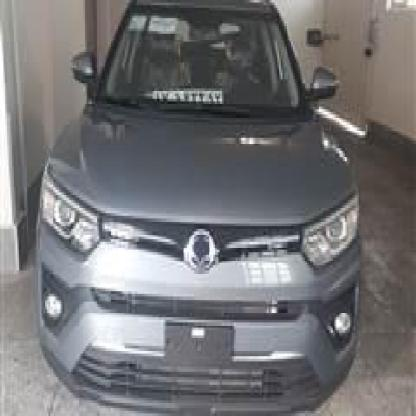Car: (28, 0, 359, 416)
